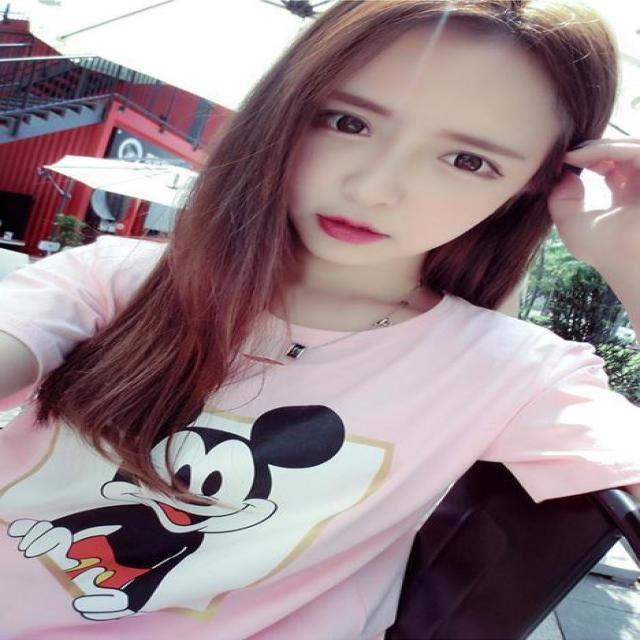short-sleeve-top: (30, 210, 593, 626)
